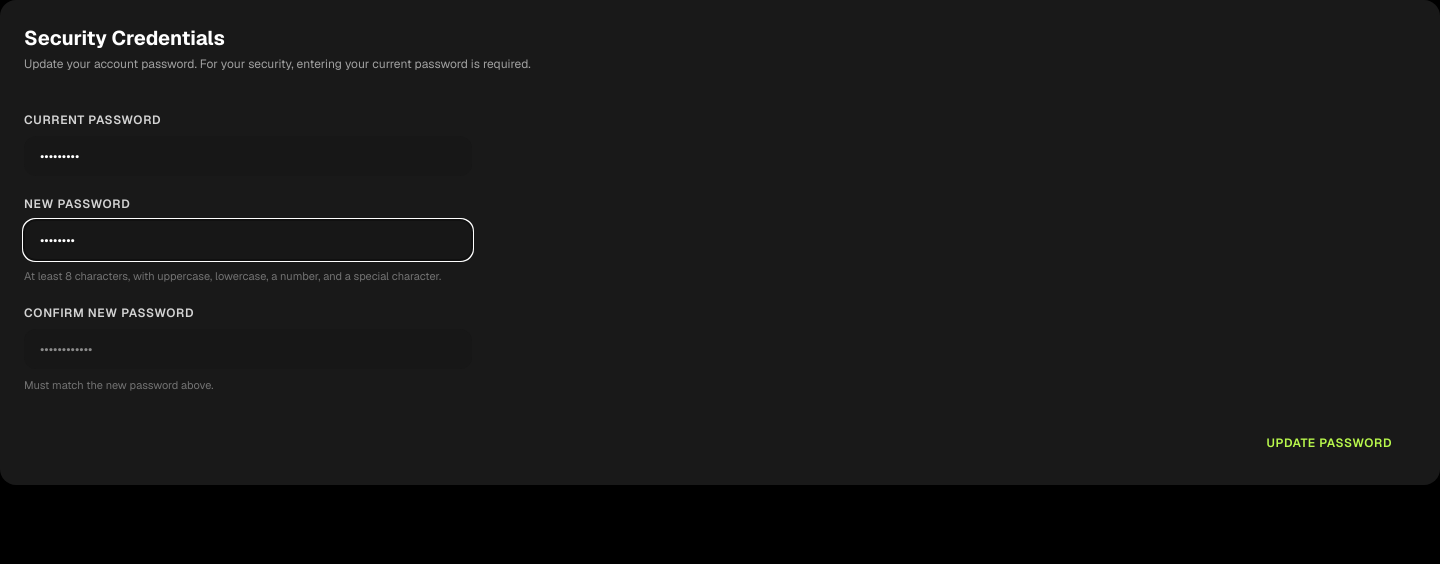
Test case: ProfileSecuritySettings › blocks submission with weak new password or mismatched confirmation
Earlier steps of the test are not shown.
Step 1. Type "weakpass" into the password field labelled "Confirm New Password" → (248, 348), box [24,328,472,368]
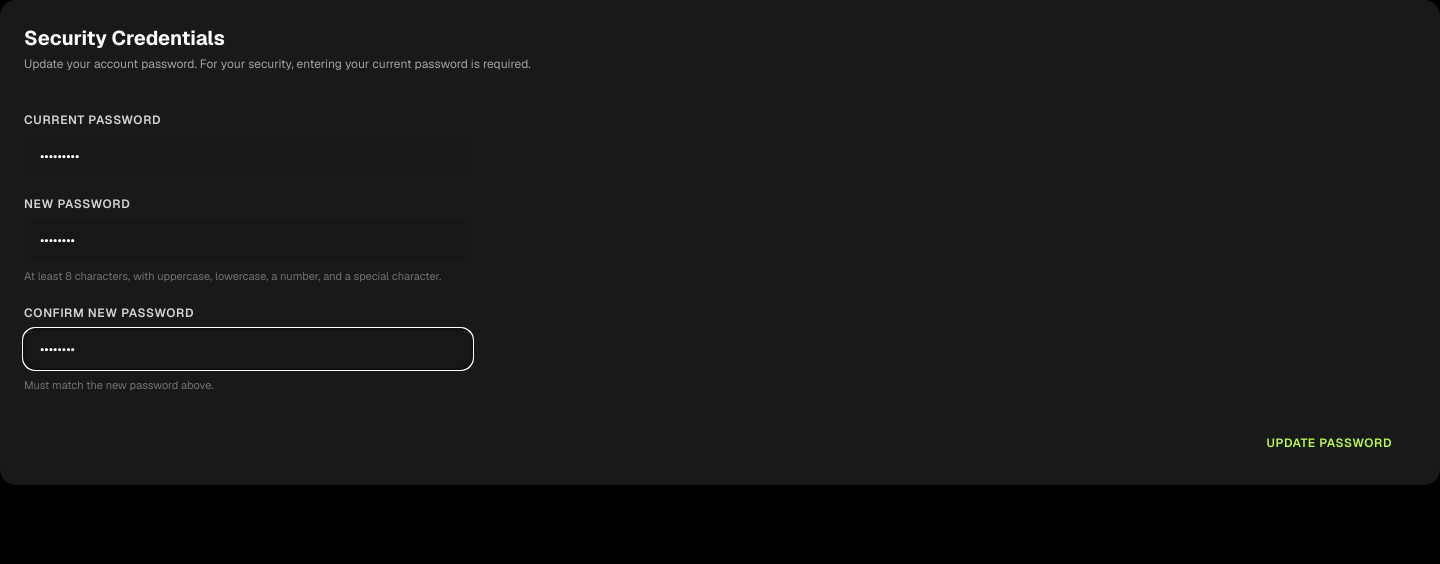
Step 2. Click the button "Update Password" → (1329, 443), box [1242,425,1416,461]
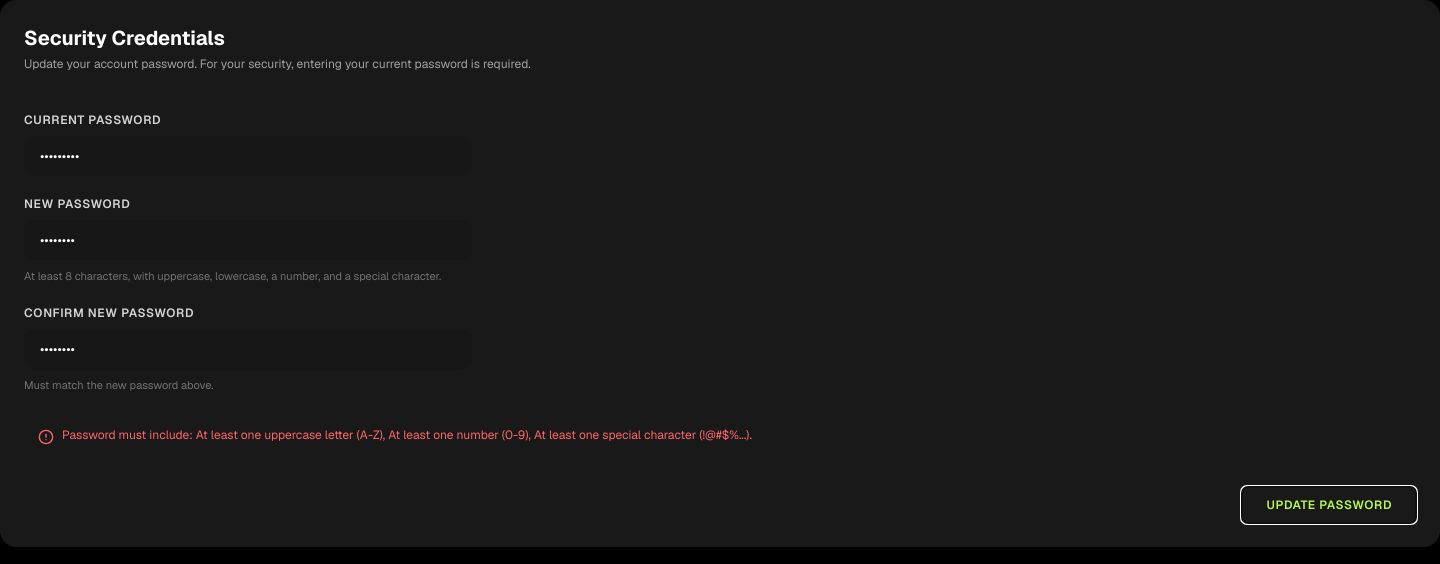
Expected: the text "Password must include:" is shown, [62,427,752,443]
# Strong password but mismatching confirmation
Step 3. Clear the password field labelled "New Password" → (248, 240), box [24,220,472,260]
Step 4. Clear the password field labelled "Confirm New Password" → (248, 348), box [24,328,472,368]
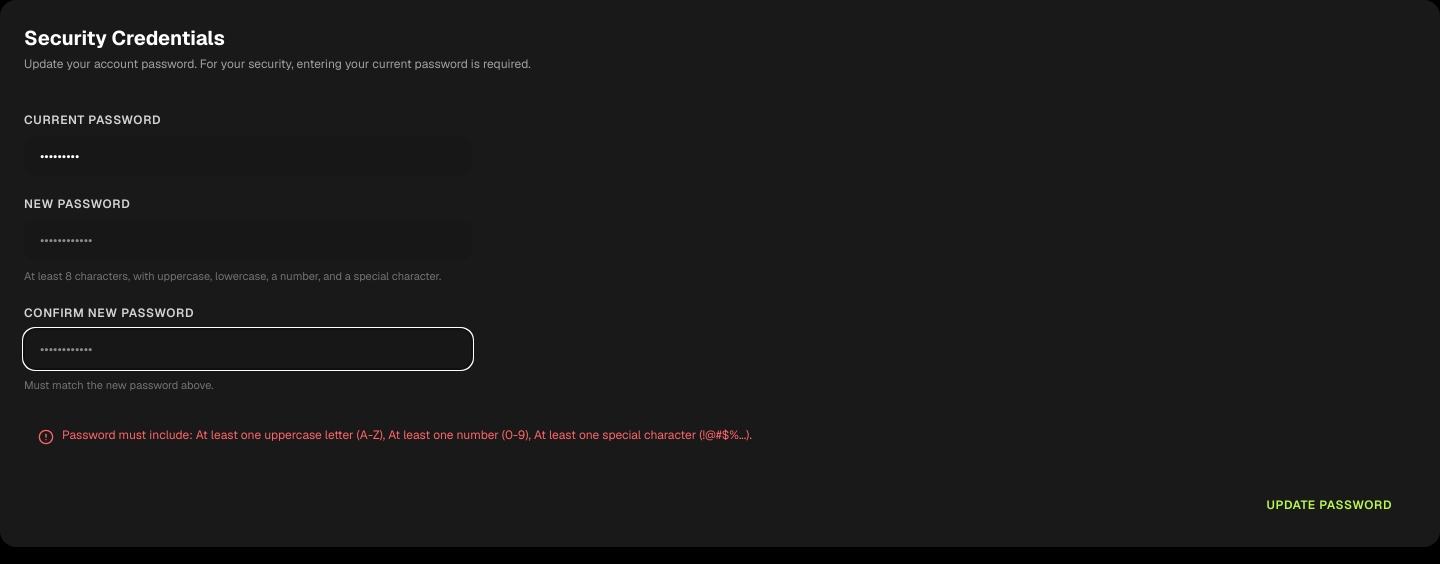
Step 5. Type "StrongPass1!" into the password field labelled "New Password" → (248, 240), box [24,220,472,260]
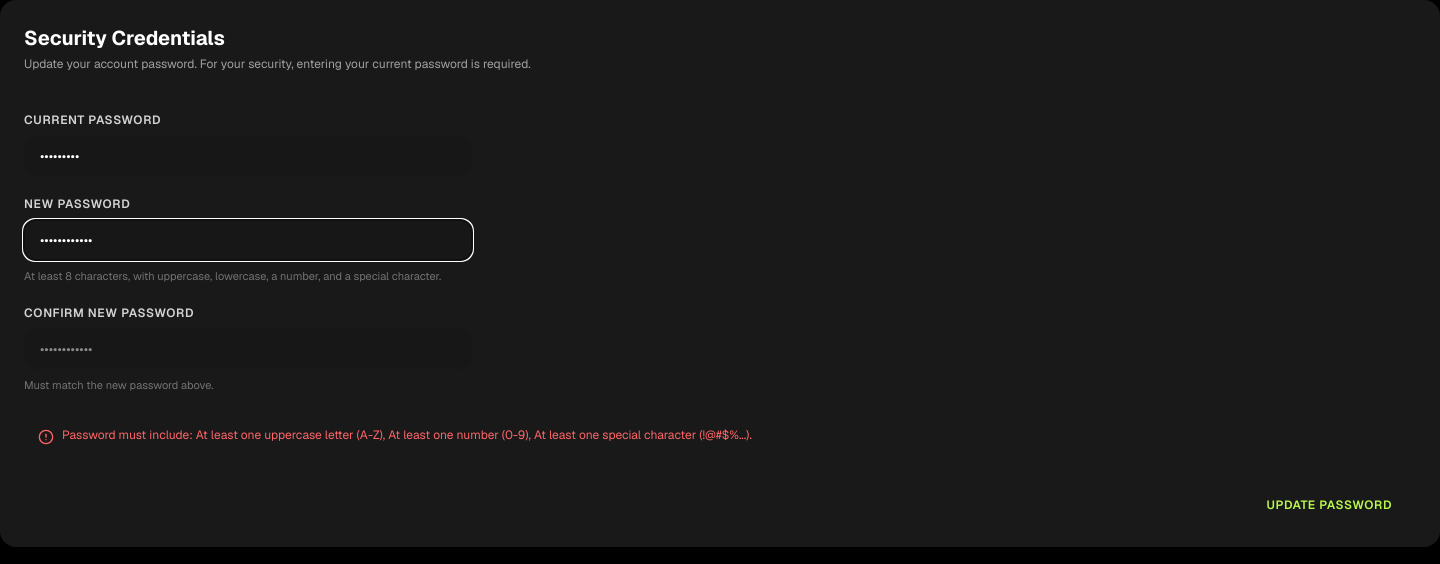
Step 6. Type "DifferentPass1!" into the password field labelled "Confirm New Password" → (248, 348), box [24,328,472,368]
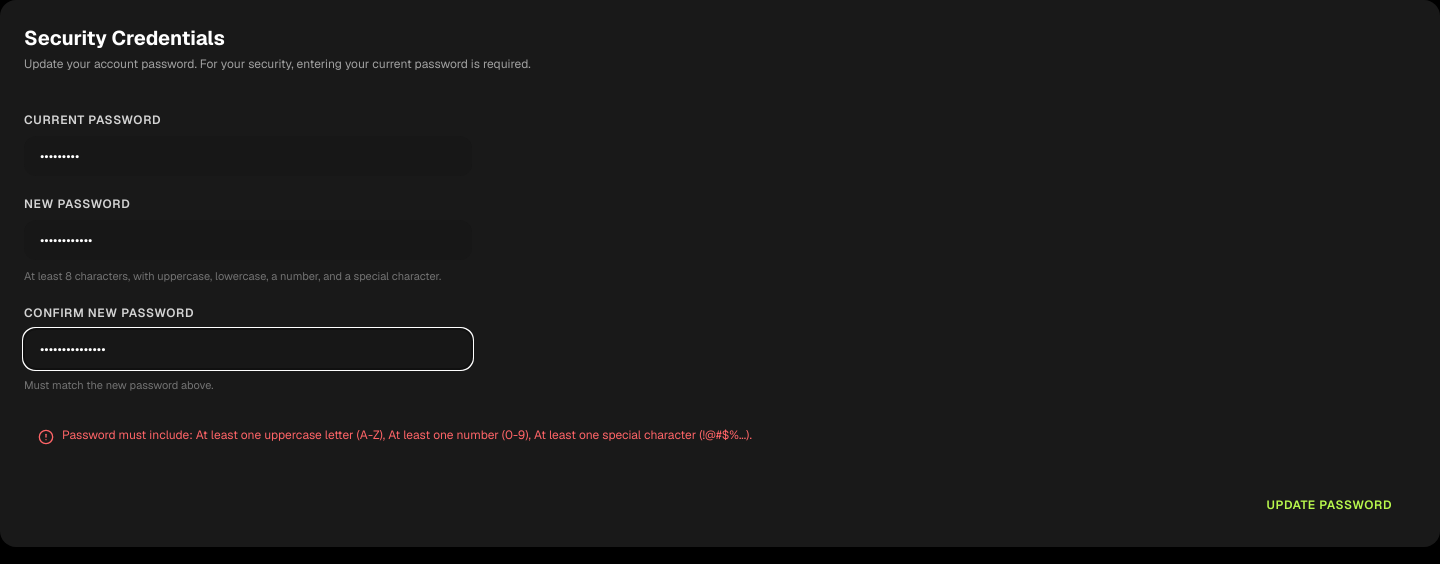
Step 7. Click the button "Update Password" → (1329, 505), box [1242,487,1416,523]
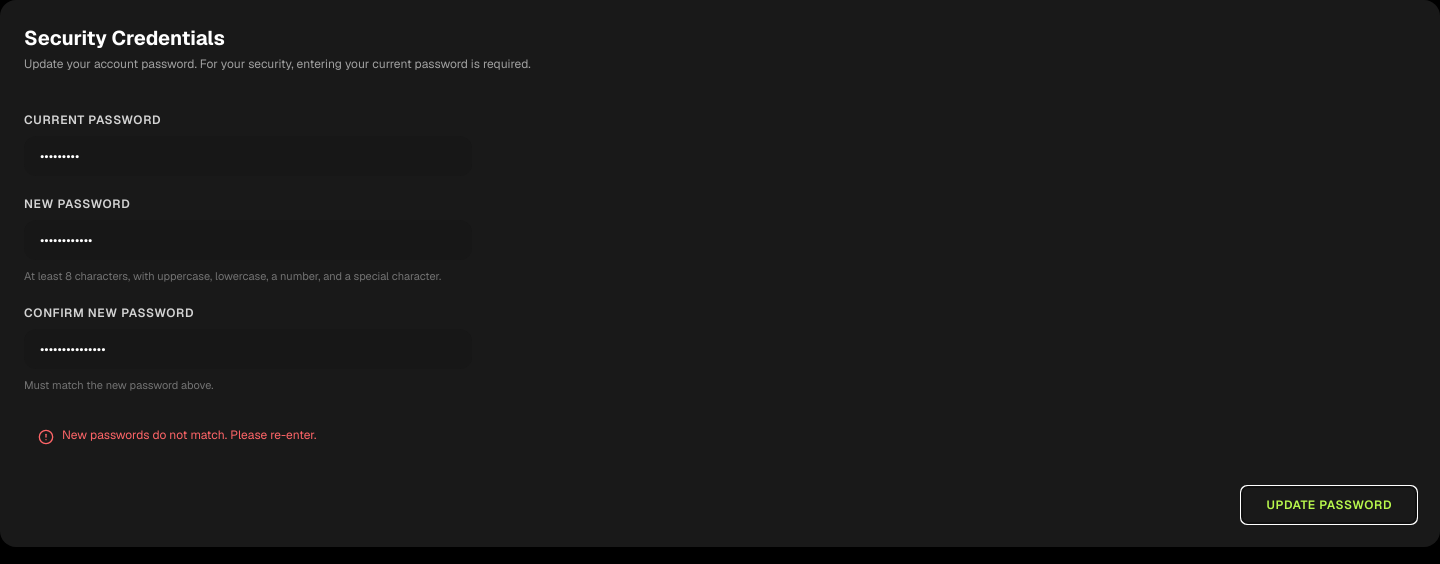
Expected: the text "New passwords do not match. Please re-enter." is shown, [62,427,316,443]
